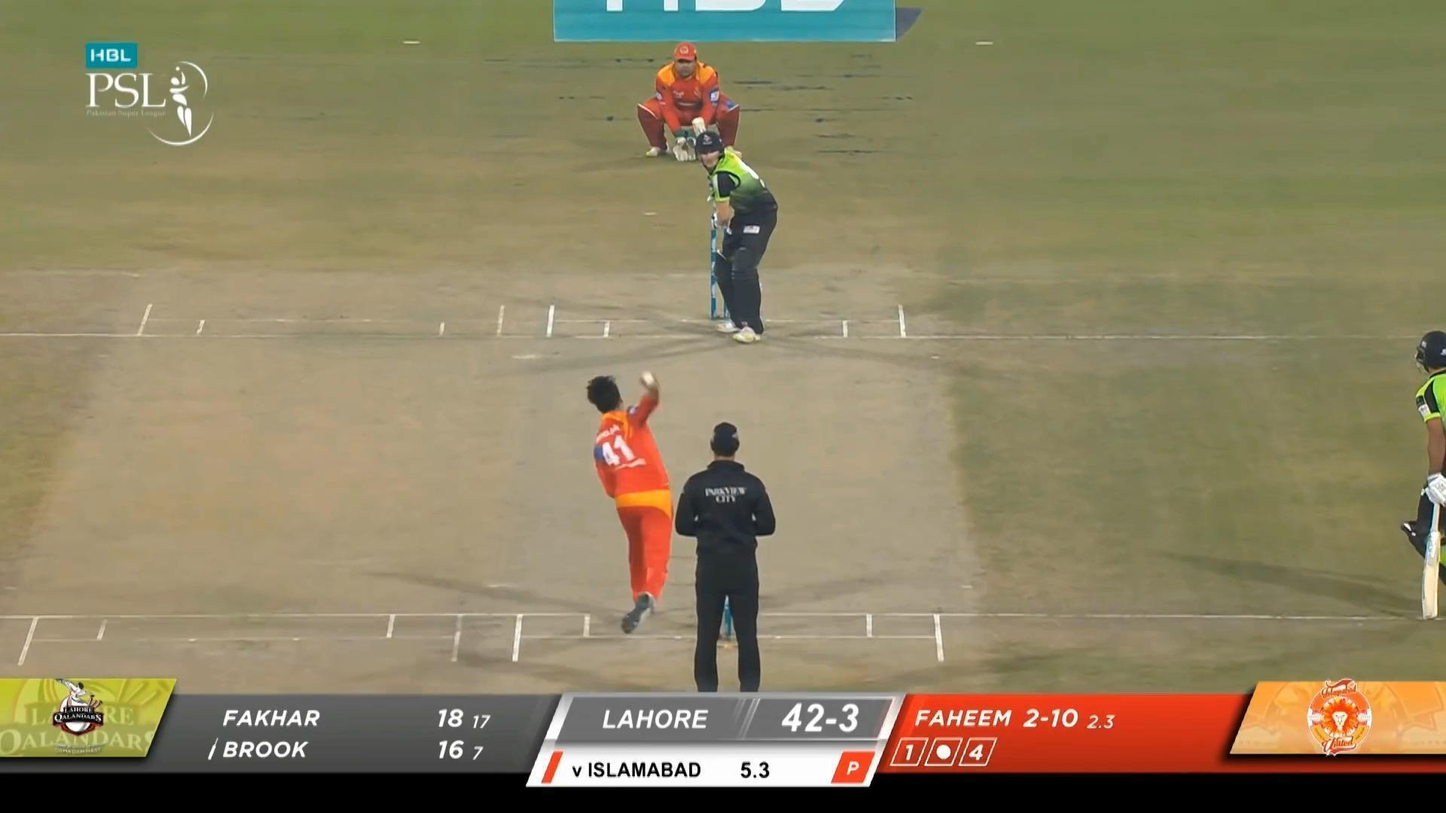BM 1: (691, 115, 779, 344)
BO: (584, 370, 675, 633)
